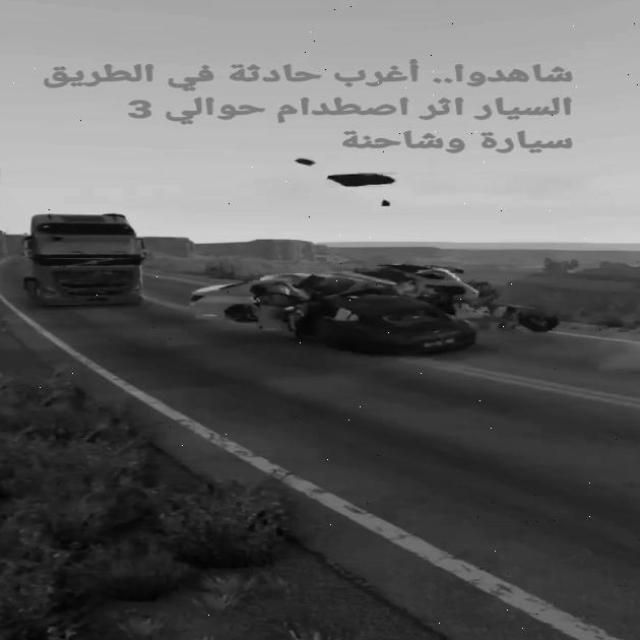accident: (161, 243, 559, 359)
